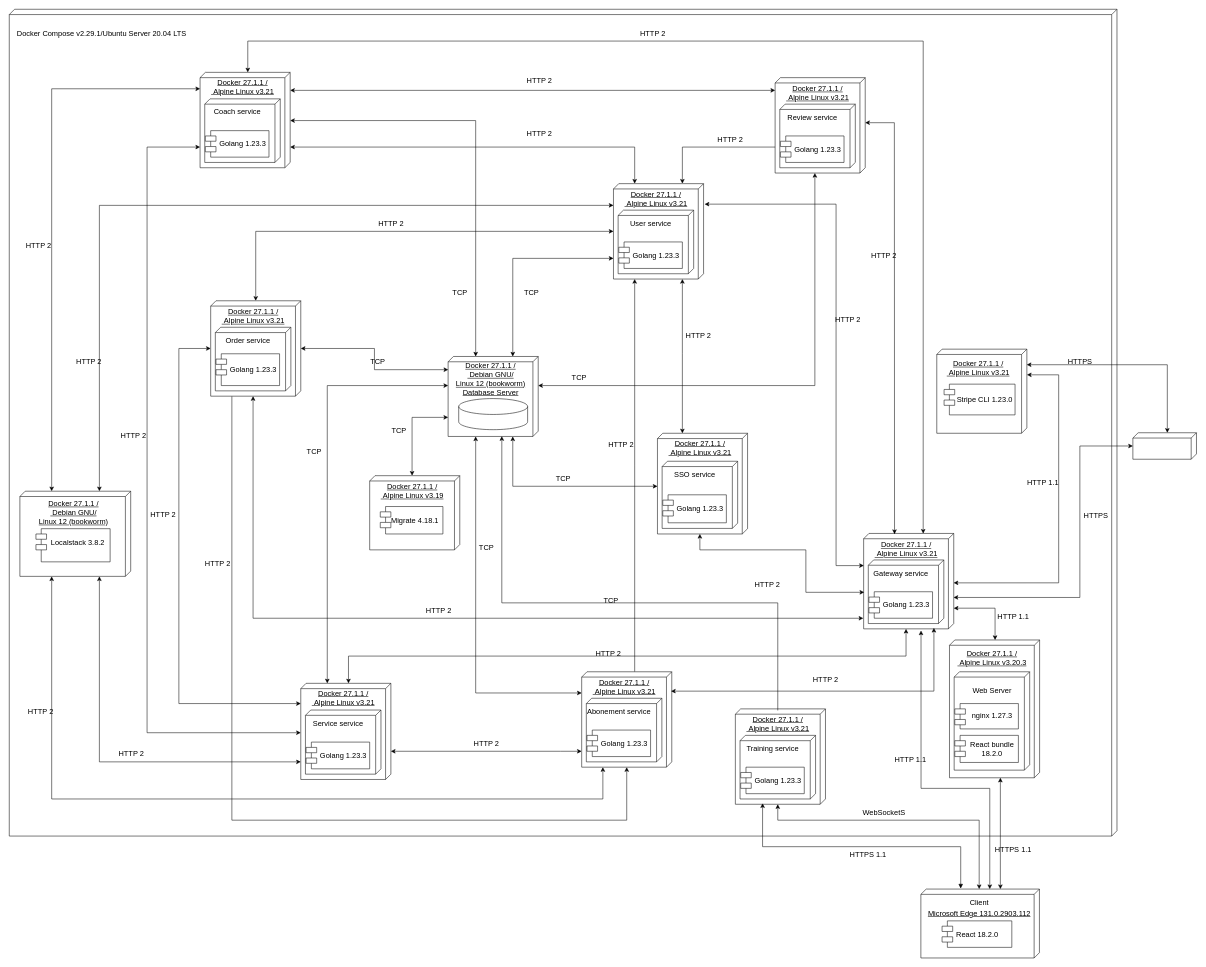
This 1206x967 diagram has some shape labels left out. Here are the shapes that lost their labels. From the top down, the centre of each, then its label:
At pixel 493 414: "PostgreSQL 17".
At pixel 1164 445: "StripeAPI".
